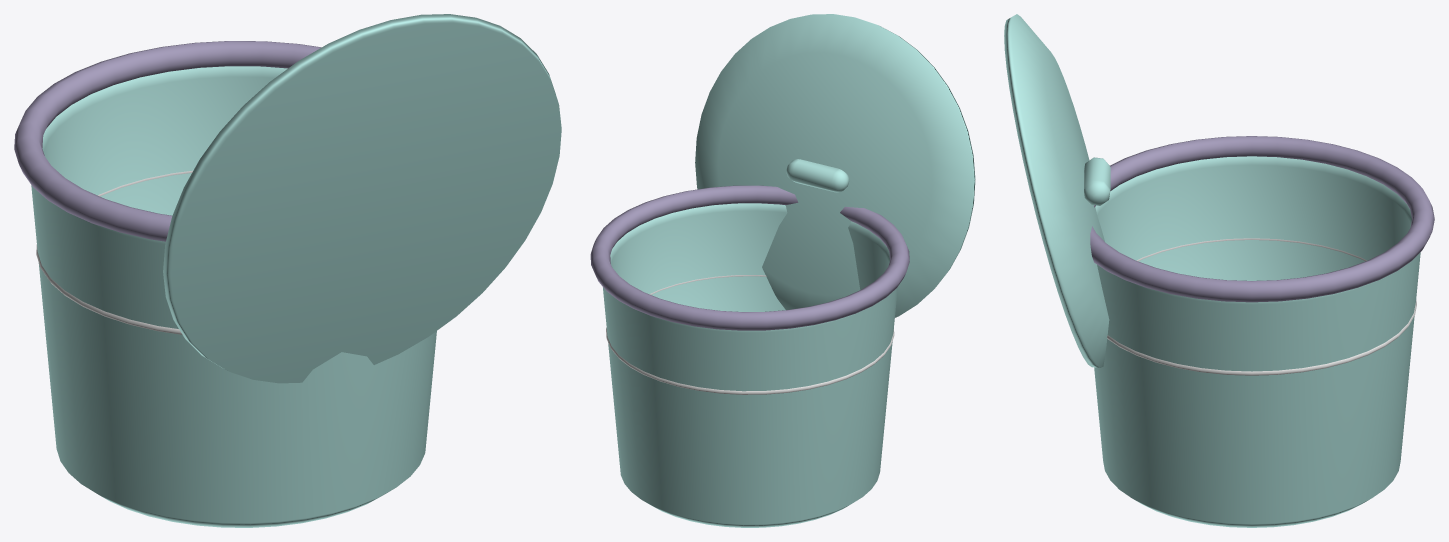
File: CakeBin.glb
3 views of the same model, side by side, from view 1: azimuth 30°, elevation 25°; view 2: azimuth 150°, elevation 25°; view 3: azimuth 270°, elevation 25° (orthographic). The views are drawn at different scales.
Parts seen in each view (by area): view 1: Lid, Bin, Rim, Stripe; view 2: Bin, Lid, Rim, Stripe; view 3: Bin, Lid, Rim, Stripe.
Part boxes in pixels (<box>): Lid: <box>163,14,561,383</box>; Bin: <box>31,66,436,527</box>; Rim: <box>14,41,321,241</box>; Stripe: <box>36,170,192,334</box>; Bin: <box>603,203,897,527</box>; Lid: <box>695,14,975,317</box>; Rim: <box>590,185,909,330</box>; Stripe: <box>606,275,894,394</box>; Bin: <box>1094,156,1420,527</box>; Lid: <box>1004,14,1110,367</box>; Rim: <box>1090,136,1434,302</box>; Stripe: <box>1107,238,1416,375</box>.
Bounding box in the file's own units: 4.18 × 5.54 × 4.92.
